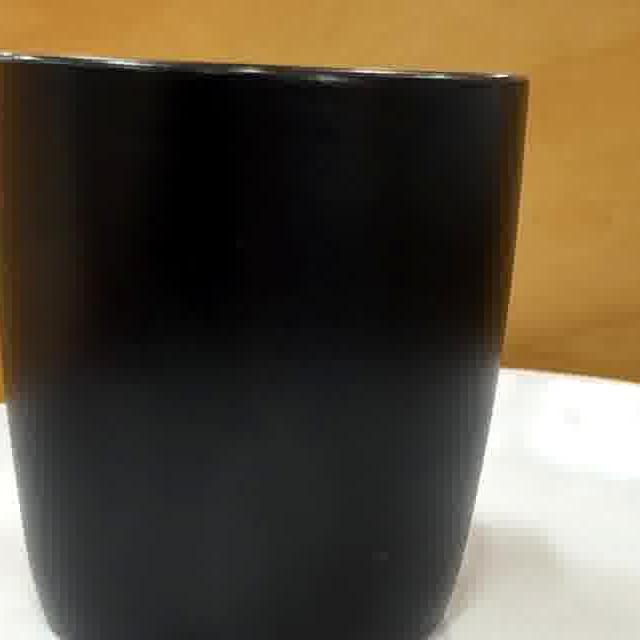cup: (0, 60, 525, 640)
